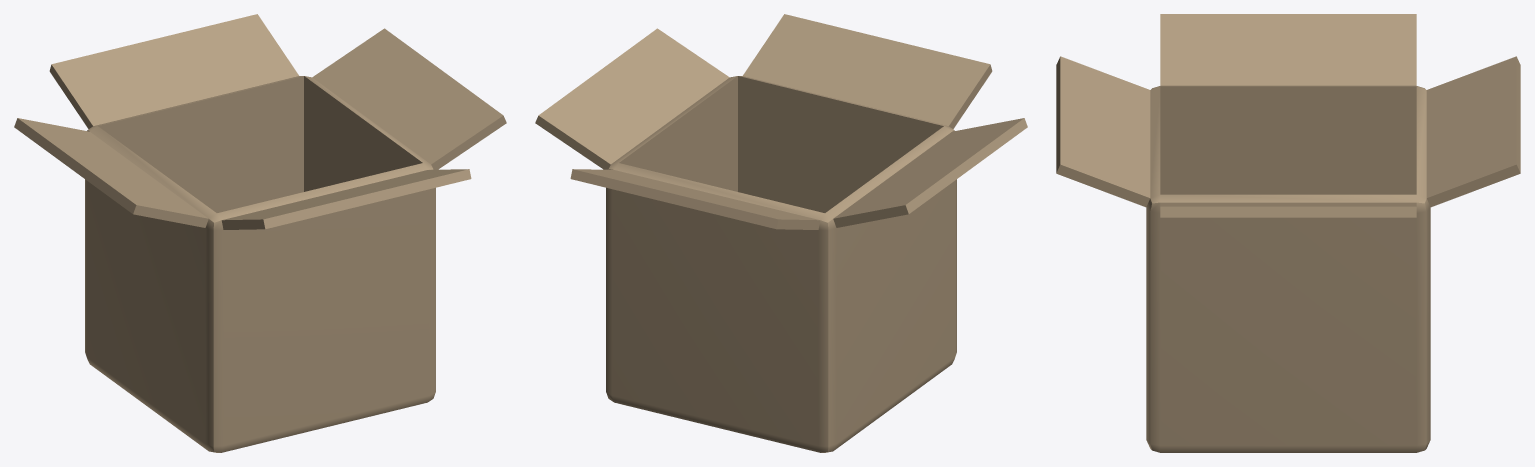
File: Cardboard_Open.fbx
The picture shows the model from 3 angles, left to right: view 1: azimuth 30°, elevation 25°; view 2: azimuth 150°, elevation 25°; view 3: azimuth 270°, elevation 25°; orthographic projection. The views are drawn at different scales.
Visible parts, largest first — view 1: CardboardBox_open; view 2: CardboardBox_open; view 3: CardboardBox_open.
Boxes of the visible parts, bbox=[...] form: CardboardBox_open: bbox=[14, 14, 506, 452]; CardboardBox_open: bbox=[535, 14, 1027, 452]; CardboardBox_open: bbox=[1056, 14, 1520, 452].
Size of the model in its own units: 23.86 by 16.32 by 23.86.
